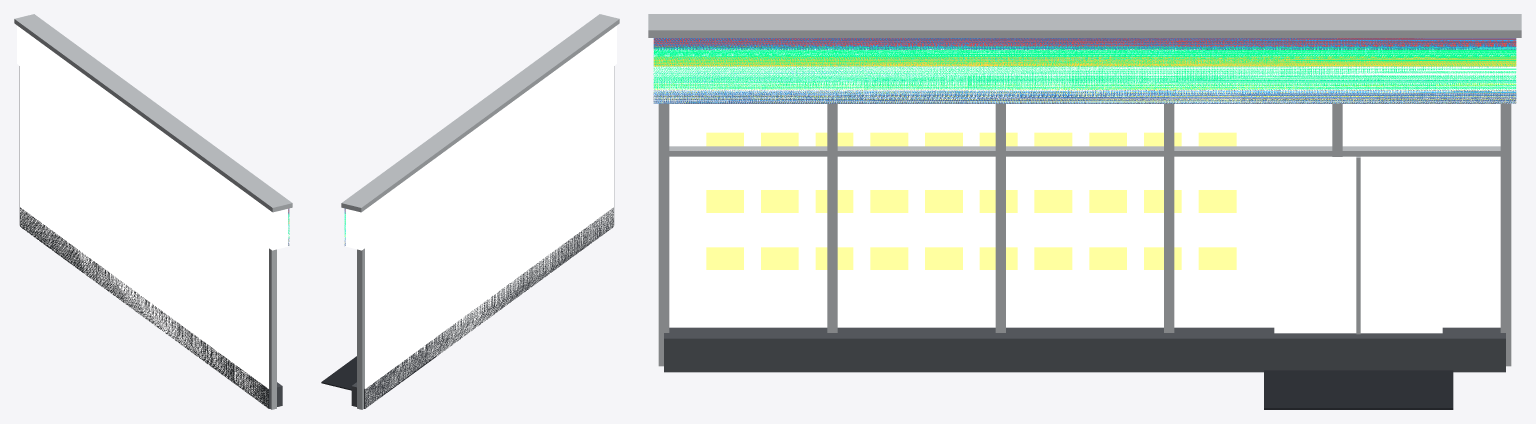
The model's file is shops.glb.
3 renders of one model, left to right at view 1: azimuth 30°, elevation 25°; view 2: azimuth 150°, elevation 25°; view 3: azimuth 270°, elevation 25°, orthographic. The views are drawn at different scales.
Parts seen in each view (by area): view 1: SF_Front, SF_Sign0; view 2: SF_Front, SF_Sign0; view 3: SF_Front, SF_Sign1, SF_Sign0, SF_Sign2, SF_Sign4, SF_Sign3.
Boxes of the visible parts, <box> form: SF_Front: <box>14,14,292,409</box>; SF_Sign0: <box>17,25,289,250</box>; SF_Front: <box>321,14,619,409</box>; SF_Sign0: <box>344,25,616,250</box>; SF_Front: <box>648,14,1521,409</box>; SF_Sign1: <box>653,38,1516,103</box>; SF_Sign0: <box>653,38,1516,103</box>; SF_Sign2: <box>653,38,1516,103</box>; SF_Sign4: <box>654,38,1516,103</box>; SF_Sign3: <box>653,46,1515,103</box>.
Bounding box in the file's own units: 1.12 × 3.63 × 8.3.
